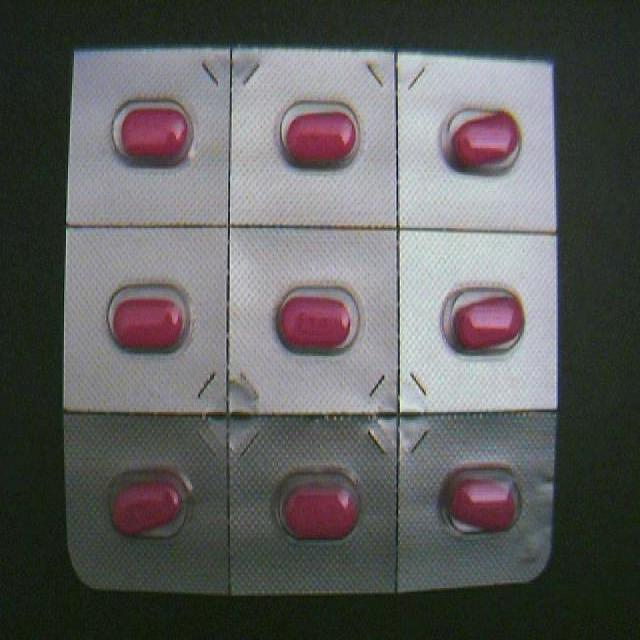Pill: (96, 271, 202, 367), (266, 82, 368, 181), (428, 266, 527, 364), (97, 86, 199, 176), (435, 454, 533, 546), (270, 456, 364, 550), (269, 268, 361, 362), (433, 89, 524, 178), (99, 458, 190, 542)
